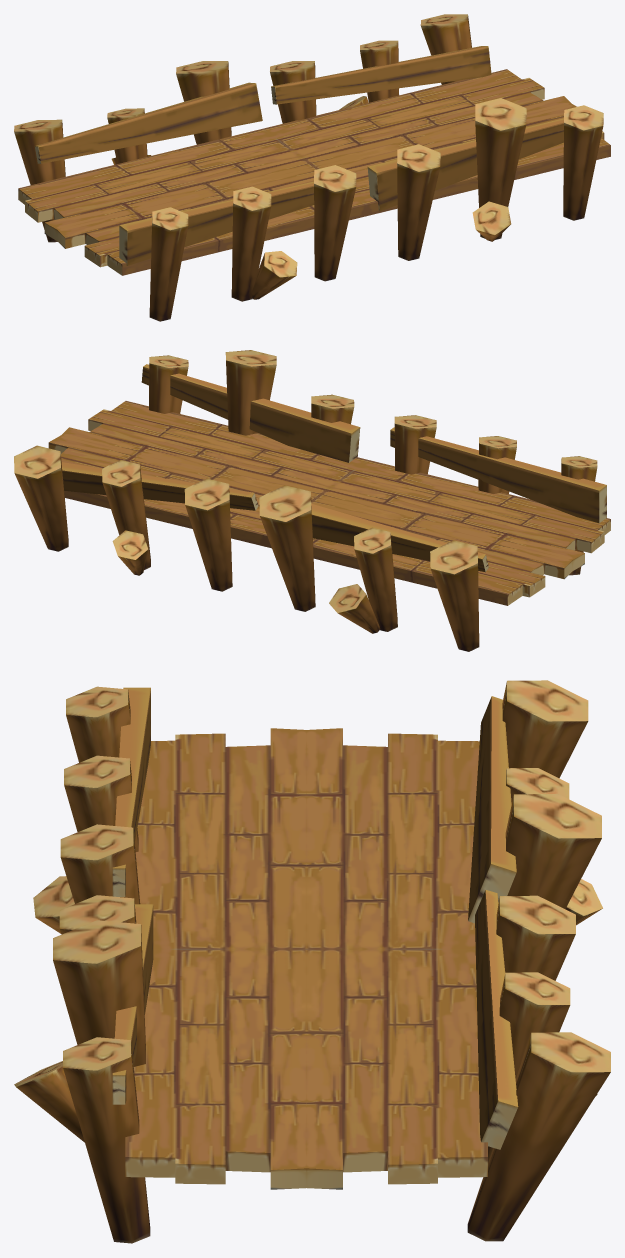
Rendered from bigmap_brige01.FBX.
3 views of the same model, one above another, from view 1: azimuth 30°, elevation 25°; view 2: azimuth 150°, elevation 25°; view 3: azimuth 270°, elevation 25° (orthographic). The views are drawn at different scales.
Visible parts, largest first — view 1: bigmap_brige01; view 2: bigmap_brige01; view 3: bigmap_brige01.
Part boxes in pixels (bbox=[...]): bigmap_brige01: bbox=[14, 14, 610, 321]; bigmap_brige01: bbox=[14, 350, 610, 651]; bigmap_brige01: bbox=[14, 680, 610, 1243].
Bounding box in the file's own units: 10.08 × 5.76 × 2.5.
